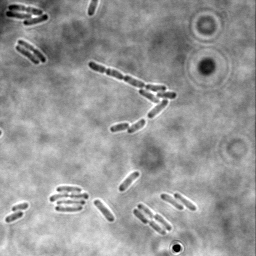Dividing: (137, 203, 173, 232), (132, 208, 167, 236), (17, 39, 48, 63), (7, 4, 44, 16)
Microcolony: (88, 60, 178, 120), (49, 185, 90, 214)
Rod: (14, 44, 40, 66), (94, 198, 116, 223), (118, 171, 141, 193), (173, 192, 197, 212), (160, 193, 185, 212), (23, 13, 49, 27), (5, 10, 33, 21), (128, 119, 147, 135), (5, 210, 25, 224), (10, 200, 30, 214), (110, 122, 130, 134)
